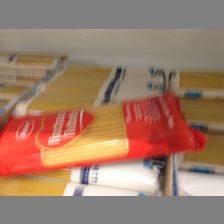pasta: (1, 95, 206, 176)
